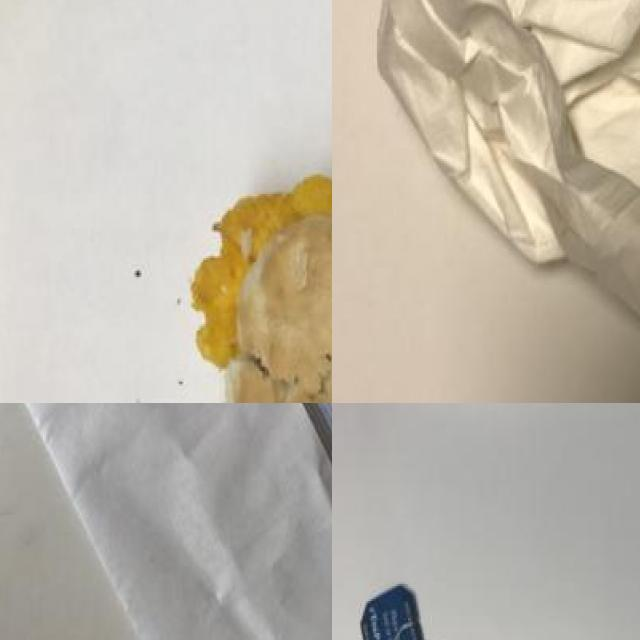compost: (189, 165, 332, 403), (360, 575, 640, 640)
paper: (0, 403, 332, 640)
trash: (347, 0, 640, 339)
